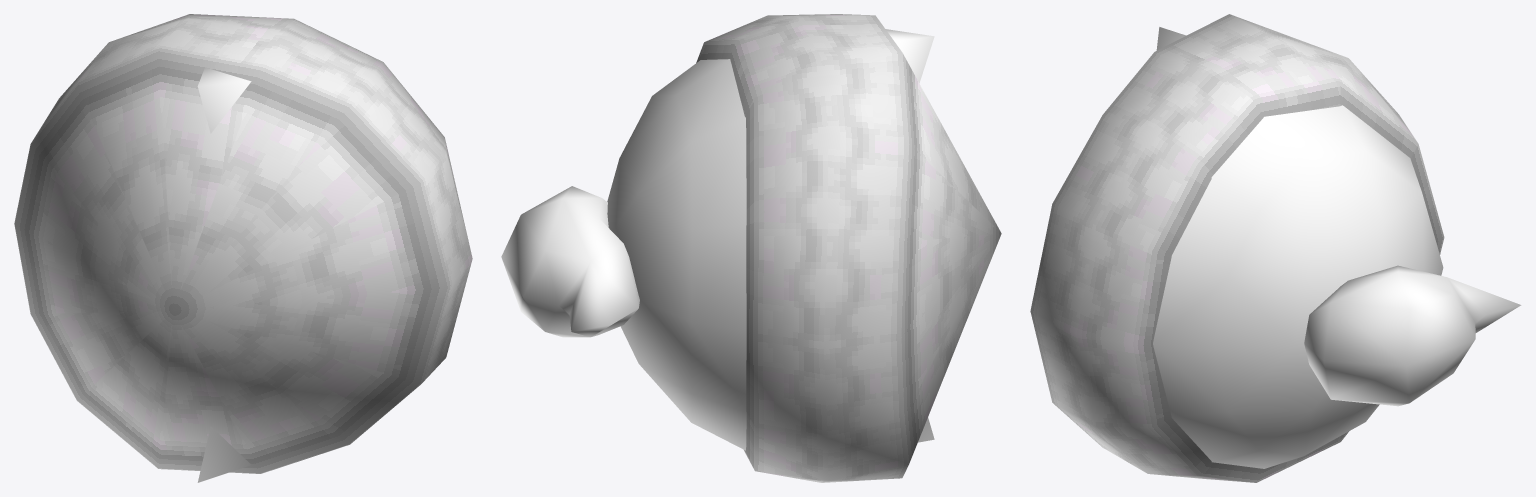
File: hlmt_turban_hair.dae
3 views of the same model, side by side, from view 1: azimuth 30°, elevation 25°; view 2: azimuth 150°, elevation 25°; view 3: azimuth 270°, elevation 25° (orthographic). The views are drawn at different scales.
Visible parts, largest first — view 1: hlmt_turban_hair; view 2: hlmt_turban_hair; view 3: hlmt_turban_hair.
Part boxes in pixels (x1,y1,x2,y2): hlmt_turban_hair: (14,14,472,482); hlmt_turban_hair: (501,14,1001,482); hlmt_turban_hair: (1030,14,1521,482).
Bounding box in the file's own units: 21.57 × 22.97 × 24.8.
2 materials, 2 textured.
